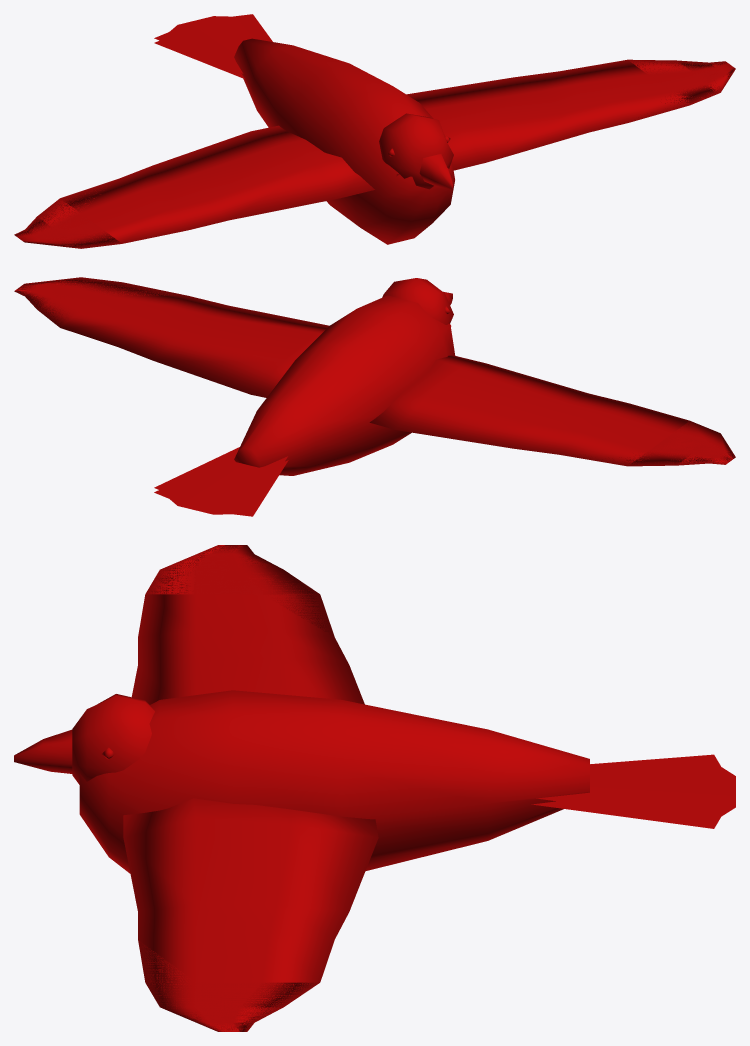
The model's file is ptarmigan.glb.
The picture shows the model from 3 angles, top to bottom: view 1: azimuth 30°, elevation 25°; view 2: azimuth 150°, elevation 25°; view 3: azimuth 270°, elevation 25°; orthographic projection. The views are drawn at different scales.
Visible parts, largest first — view 1: wing, body; view 2: wing, body; view 3: wing, body.
Part boxes in pixels (<box>): wing: <box>14,59,735,248</box>; body: <box>154,14,454,244</box>; wing: <box>14,277,735,466</box>; body: <box>154,278,455,516</box>; wing: <box>123,545,378,1031</box>; body: <box>14,690,735,873</box>.
Bounding box in the file's own units: 0.6172 × 0.1133 × 0.3867.
